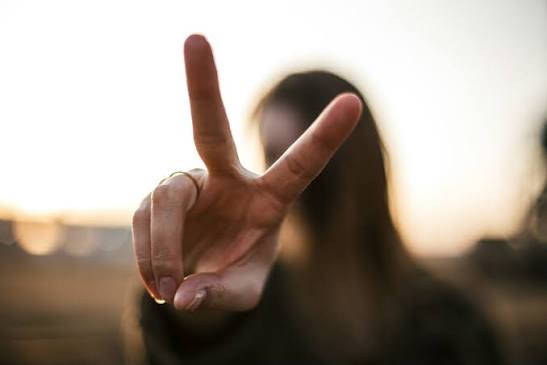peace_sign: (122, 24, 367, 315)
